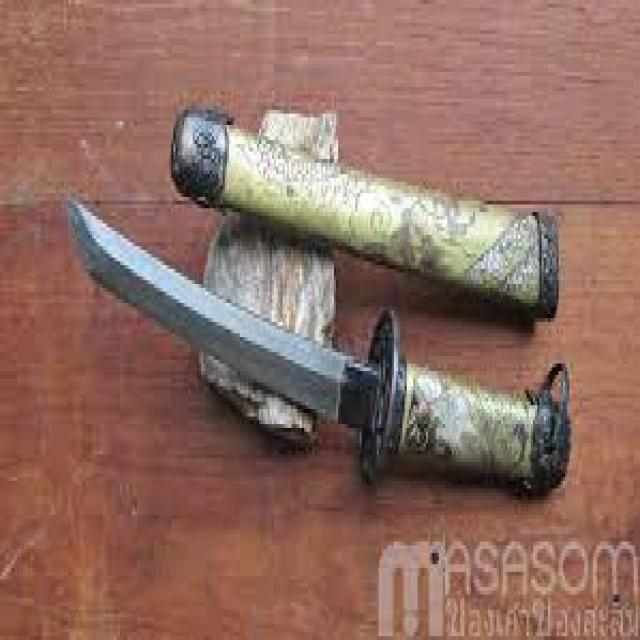short sword: (52, 81, 595, 504)
